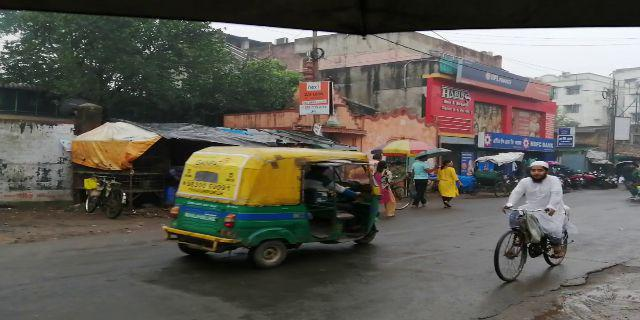Autorickshaw: (176, 146, 380, 260)
Cycle: (489, 163, 574, 282)
